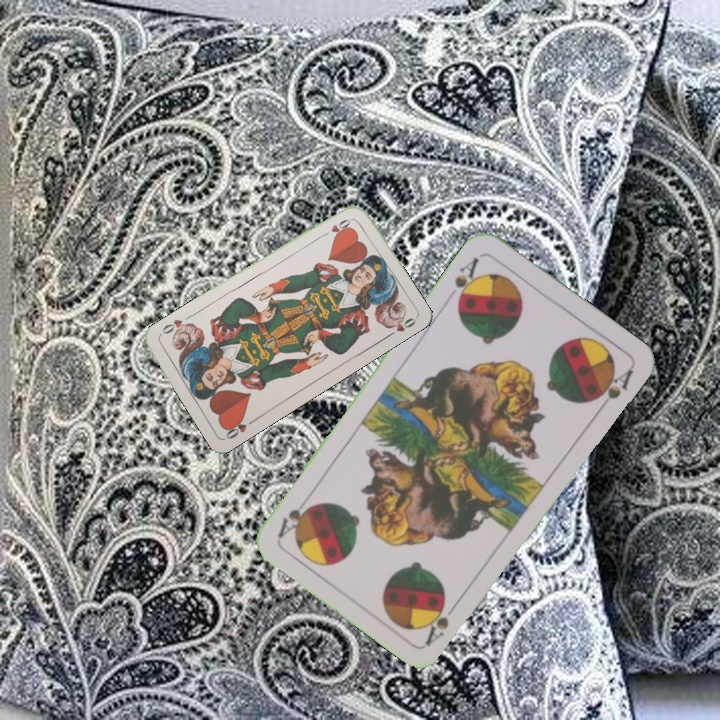HO: (222, 414, 258, 442), (317, 214, 355, 240)
SA: (421, 596, 462, 648), (450, 252, 482, 309)
